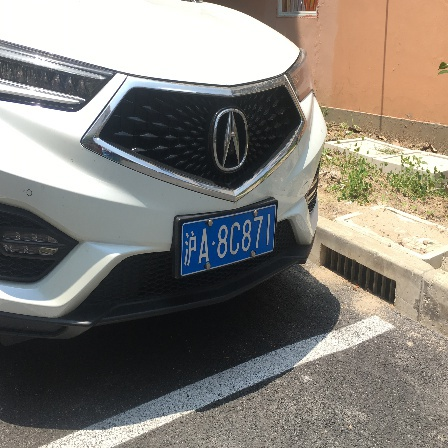plate: (179, 210, 280, 271)
